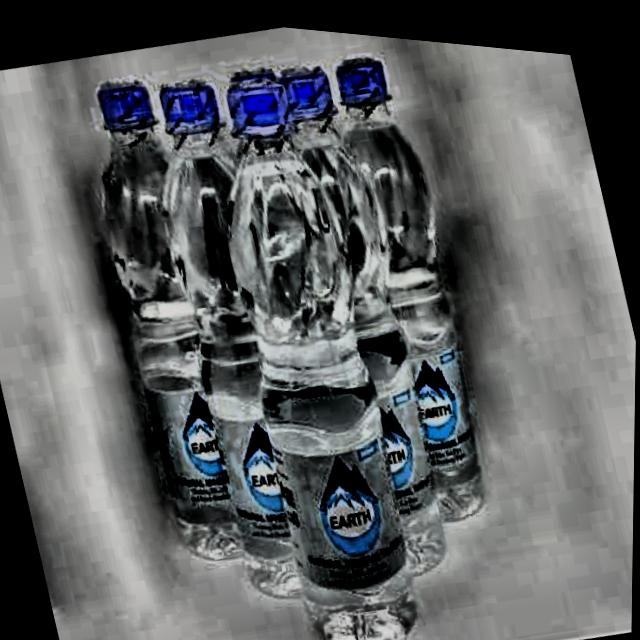Bottles: (174, 49, 447, 640)
